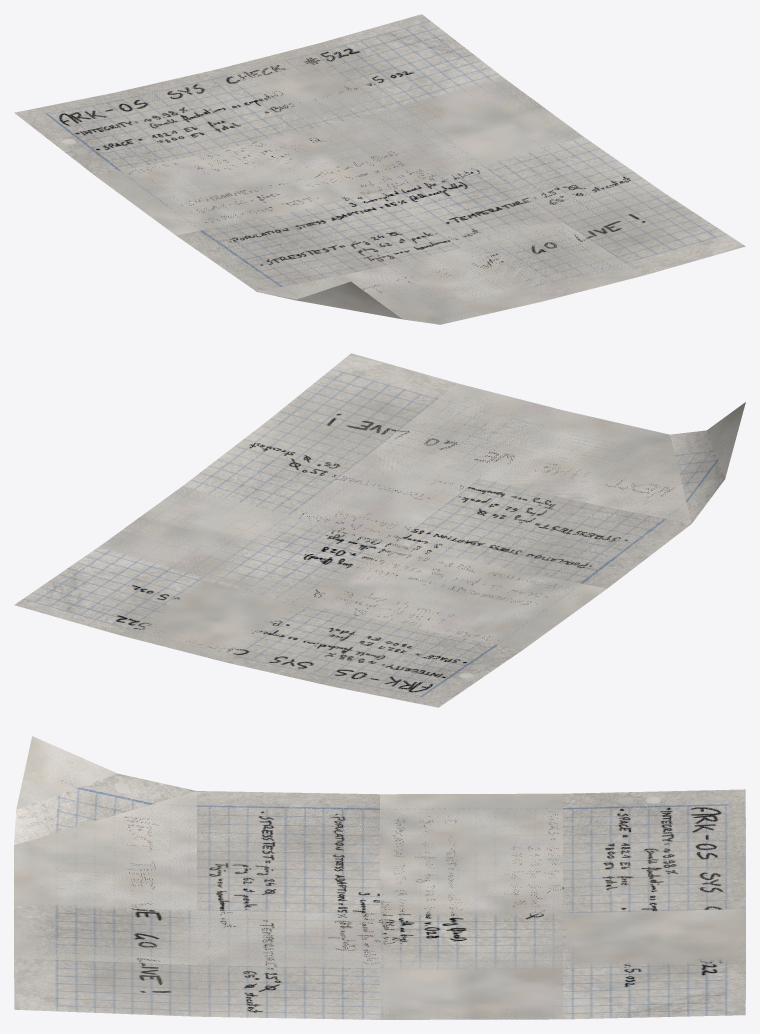
File: note_ark_syscheck.dae
3 views of the same model, one above another, from view 1: azimuth 30°, elevation 25°; view 2: azimuth 150°, elevation 25°; view 3: azimuth 270°, elevation 25° (orthographic). The views are drawn at different scales.
Visible parts, largest first — view 1: 01; view 2: 01; view 3: 01.
Boxes of the visible parts, x1,y1,x2,y2 form: 01: (14,14,745,324); 01: (14,353,745,707); 01: (14,736,745,1019).
Bounding box in the file's own units: 0.2536 × 0.0404 × 0.3491.
